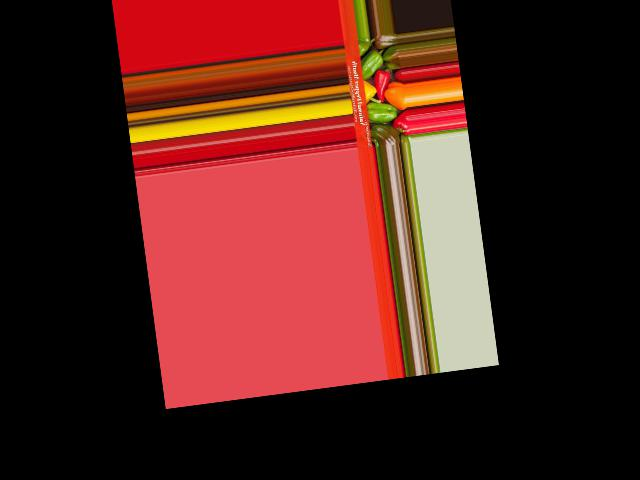bell_pepper: (369, 122, 400, 147)
